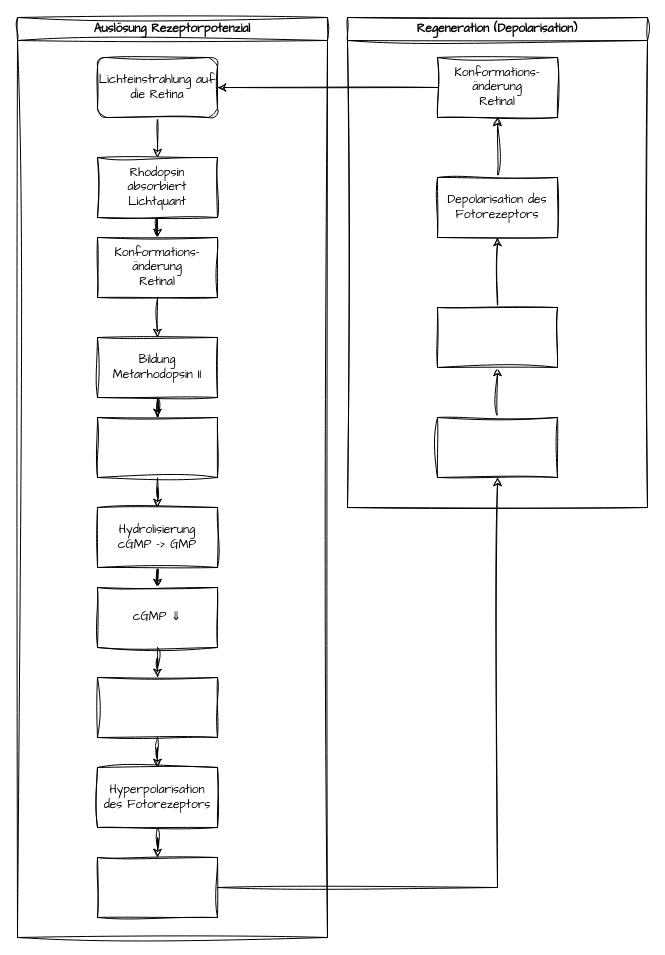
The diagram is 665 pixels wide and 955 high, and some of its shapes have lost their labels. Here are the shapes that lost their labels. From the top down, the centre of each, then its label:
At [497,337]: "Na⁺- & Ca²⁺- Kanäle öffnen wieder".
At [157,447]: "Aktivierung G-Protein Transducin".
At [497,447]: "cGMP-Synthese ⇑".
At [157,707]: "Schließung Na⁺ & Ca²⁺ Kanäle".
At [157,887]: "Glutamat-Ausschüttung ⇓".
